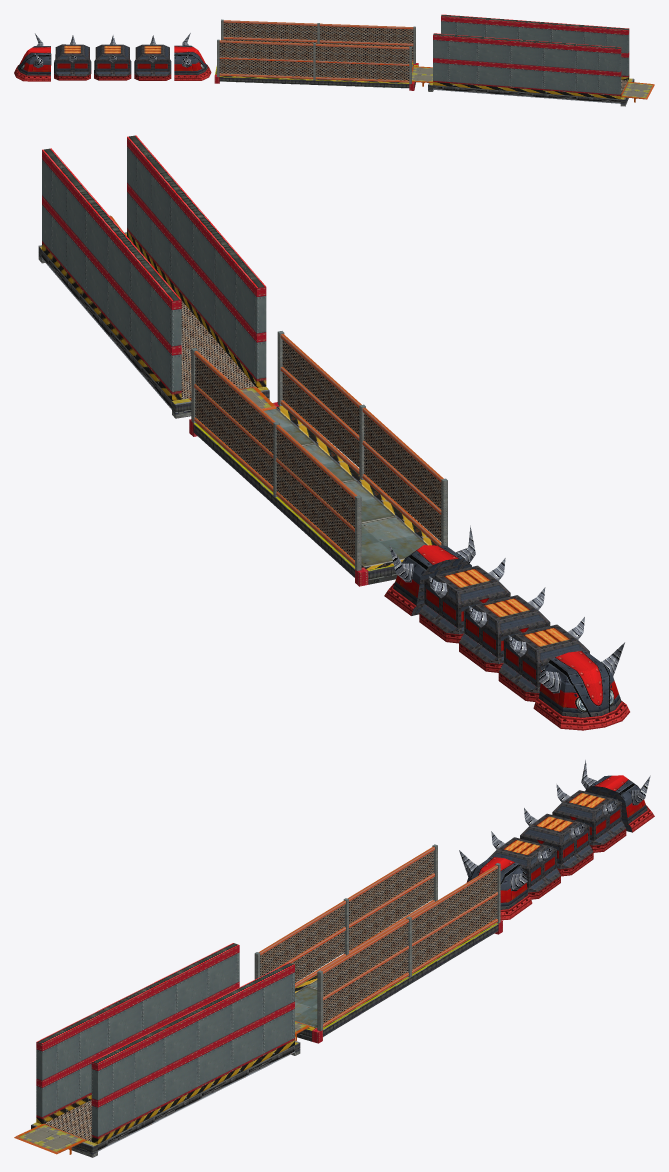
The model's file is Mad_express2.obj.
The picture shows the model from 3 angles, top to bottom: view 1: azimuth 30°, elevation 25°; view 2: azimuth 150°, elevation 25°; view 3: azimuth 270°, elevation 25°; orthographic projection. The views are drawn at different scales.
Visible parts, largest first — view 1: obj1, Object_2, obj2; view 2: obj1, Object_2, obj2; view 3: obj1, Object_2, obj2.
Boxes of the visible parts, <box> form: obj1: <box>214,14,654,106</box>; Object_2: <box>14,19,415,83</box>; obj2: <box>219,22,627,93</box>; obj1: <box>38,135,436,586</box>; Object_2: <box>191,331,629,730</box>; obj2: <box>181,301,441,559</box>; obj1: <box>14,920,502,1157</box>; Object_2: <box>254,760,654,1031</box>; obj2: <box>44,851,497,1141</box>.
Bounding box in the file's own units: 1070 × 126 × 795.
